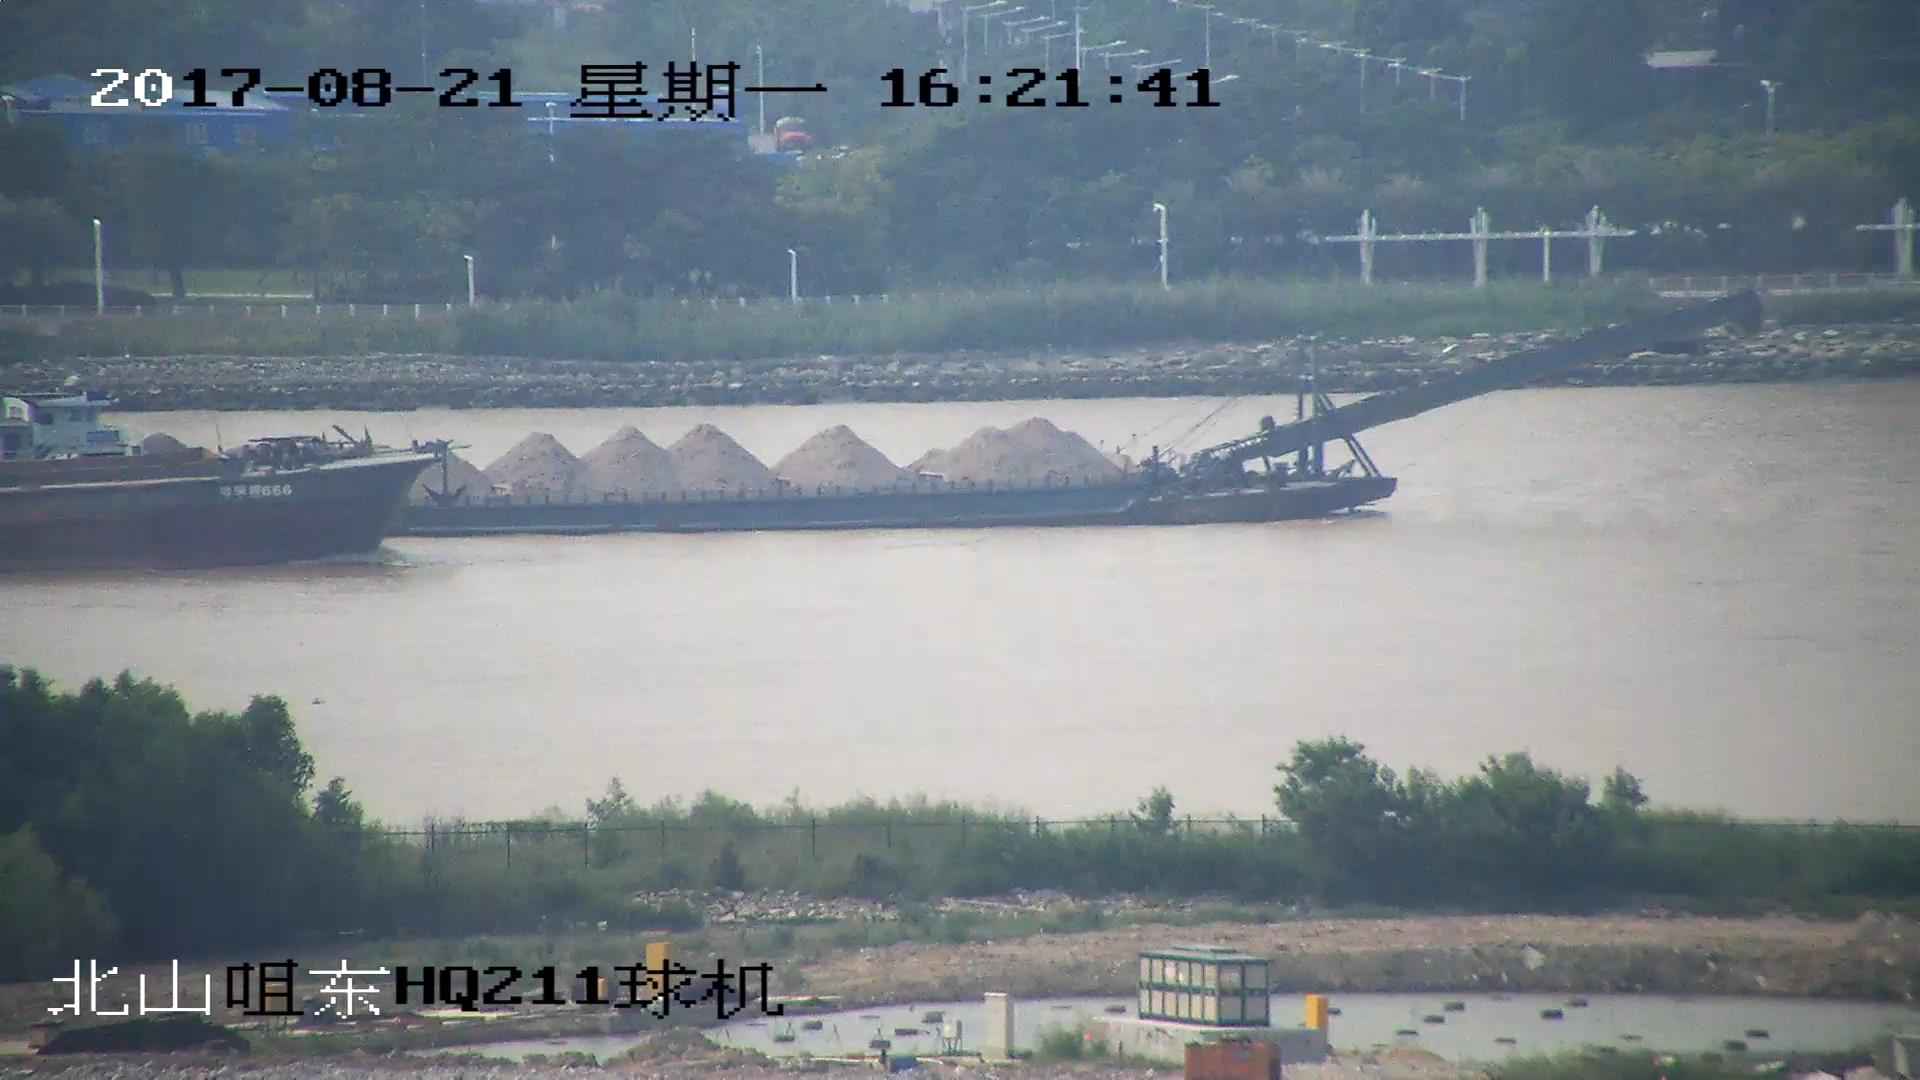bulk cargo carrier: (1, 437, 450, 568)
ore carrier: (1, 291, 1759, 532)
